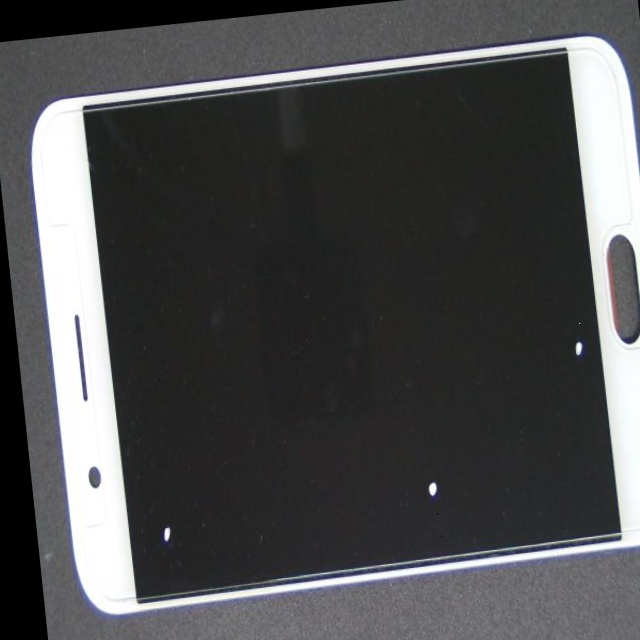stain: (262, 86, 640, 546), (218, 249, 640, 640), (71, 244, 230, 640)
